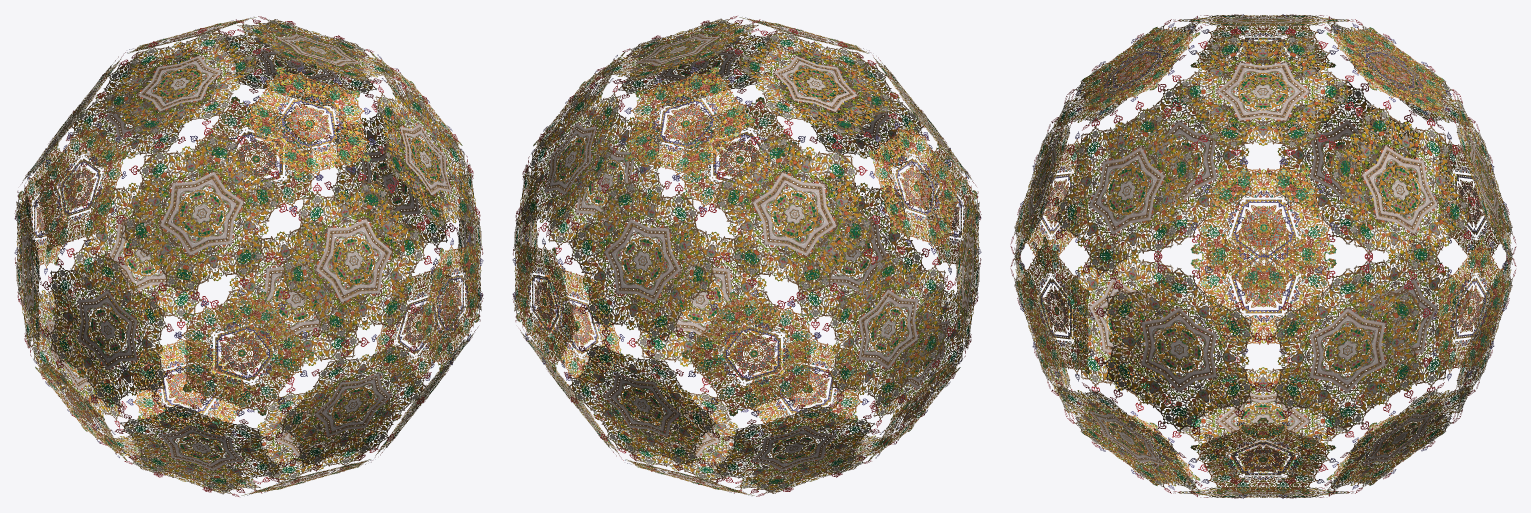
The model's file is TruncatedIcosahedron7.gltf.
The picture shows the model from 3 angles, left to right: view 1: azimuth 30°, elevation 25°; view 2: azimuth 150°, elevation 25°; view 3: azimuth 270°, elevation 25°; orthographic projection. The views are drawn at different scales.
Visible parts, largest first — view 1: TruncatedIcosahedron; view 2: TruncatedIcosahedron; view 3: TruncatedIcosahedron.
Part boxes in pixels (<box>): TruncatedIcosahedron: <box>14,16,483,496</box>; TruncatedIcosahedron: <box>512,16,981,496</box>; TruncatedIcosahedron: <box>1010,14,1516,498</box>.
Bounding box in the file's own units: 4.85 × 4.85 × 4.85.
Materials: 2 (2 with a texture image).
